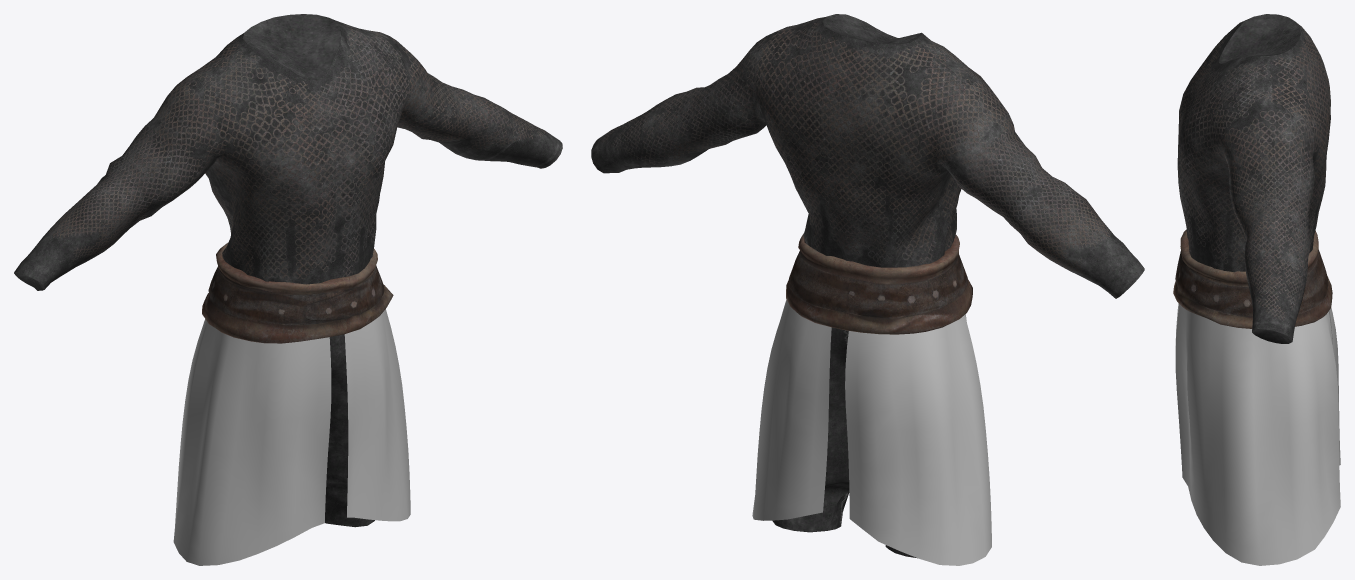
Rendered from sk_dg_uruk_chest_light_a.fbx.
The picture shows the model from 3 angles, left to right: view 1: azimuth 30°, elevation 25°; view 2: azimuth 150°, elevation 25°; view 3: azimuth 270°, elevation 25°; orthographic projection. The views are drawn at different scales.
Parts seen in each view (by area): view 1: sk_dg_uruk_chest_light_a.0, sk_dg_uruk_chest_light_a.skirt, sk_dg_uruk_chest_light_a.1; view 2: sk_dg_uruk_chest_light_a.0, sk_dg_uruk_chest_light_a.skirt, sk_dg_uruk_chest_light_a.1; view 3: sk_dg_uruk_chest_light_a.0, sk_dg_uruk_chest_light_a.skirt, sk_dg_uruk_chest_light_a.1.
Boxes of the visible parts, x1,y1,x2,y2 form: sk_dg_uruk_chest_light_a.0: [14, 14, 562, 527]; sk_dg_uruk_chest_light_a.skirt: [173, 309, 410, 565]; sk_dg_uruk_chest_light_a.1: [202, 243, 393, 343]; sk_dg_uruk_chest_light_a.0: [591, 14, 1144, 558]; sk_dg_uruk_chest_light_a.skirt: [752, 299, 991, 565]; sk_dg_uruk_chest_light_a.1: [786, 233, 972, 334]; sk_dg_uruk_chest_light_a.0: [1177, 14, 1330, 343]; sk_dg_uruk_chest_light_a.skirt: [1175, 303, 1340, 565]; sk_dg_uruk_chest_light_a.1: [1173, 229, 1332, 328].
Bounding box in the file's own units: 1.35 × 0.3773 × 1.2.
